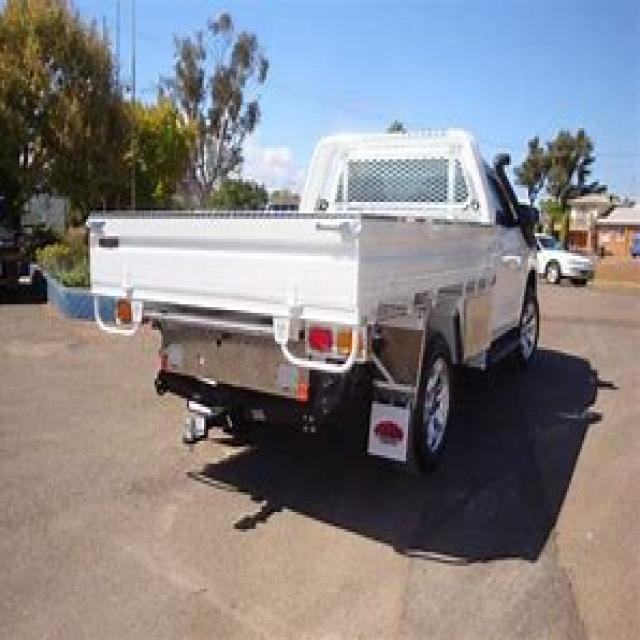light_vehicle: (62, 111, 552, 472)
